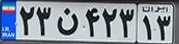character: (54, 5, 81, 38), (118, 4, 137, 41), (35, 2, 54, 38), (100, 3, 118, 41), (18, 3, 36, 38), (83, 5, 101, 39), (153, 13, 173, 42), (139, 13, 155, 42)
